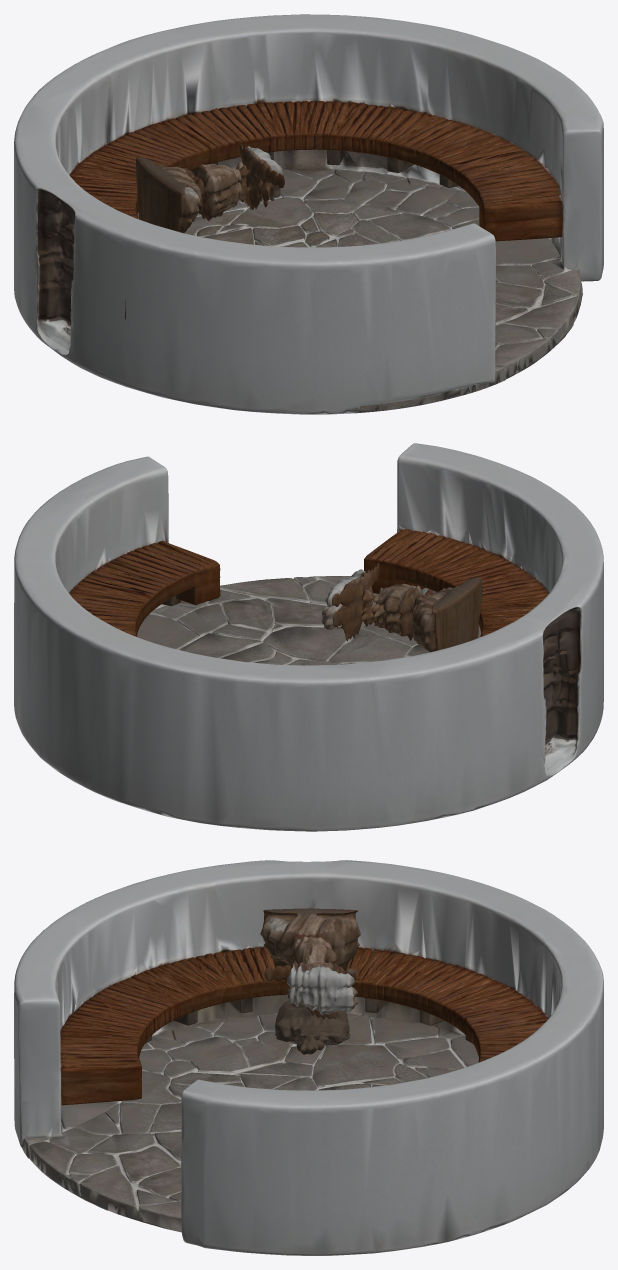
Rendered from treebench2.glb.
The picture shows the model from 3 angles, top to bottom: view 1: azimuth 30°, elevation 25°; view 2: azimuth 150°, elevation 25°; view 3: azimuth 270°, elevation 25°; orthographic projection.
Visible parts, largest first — view 1: tripo_node_d350f1d2-0da8-4a9d-b4f4-1c8ba24df5ca; view 2: tripo_node_d350f1d2-0da8-4a9d-b4f4-1c8ba24df5ca; view 3: tripo_node_d350f1d2-0da8-4a9d-b4f4-1c8ba24df5ca.
Boxes of the visible parts, box(x1,y1,x2,y2) form: tripo_node_d350f1d2-0da8-4a9d-b4f4-1c8ba24df5ca: box(14, 14, 603, 414); tripo_node_d350f1d2-0da8-4a9d-b4f4-1c8ba24df5ca: box(14, 443, 603, 831); tripo_node_d350f1d2-0da8-4a9d-b4f4-1c8ba24df5ca: box(14, 860, 603, 1255).
Bounding box in the file's own units: 2.82 × 0.7997 × 2.83.
1 material, 1 textured.
